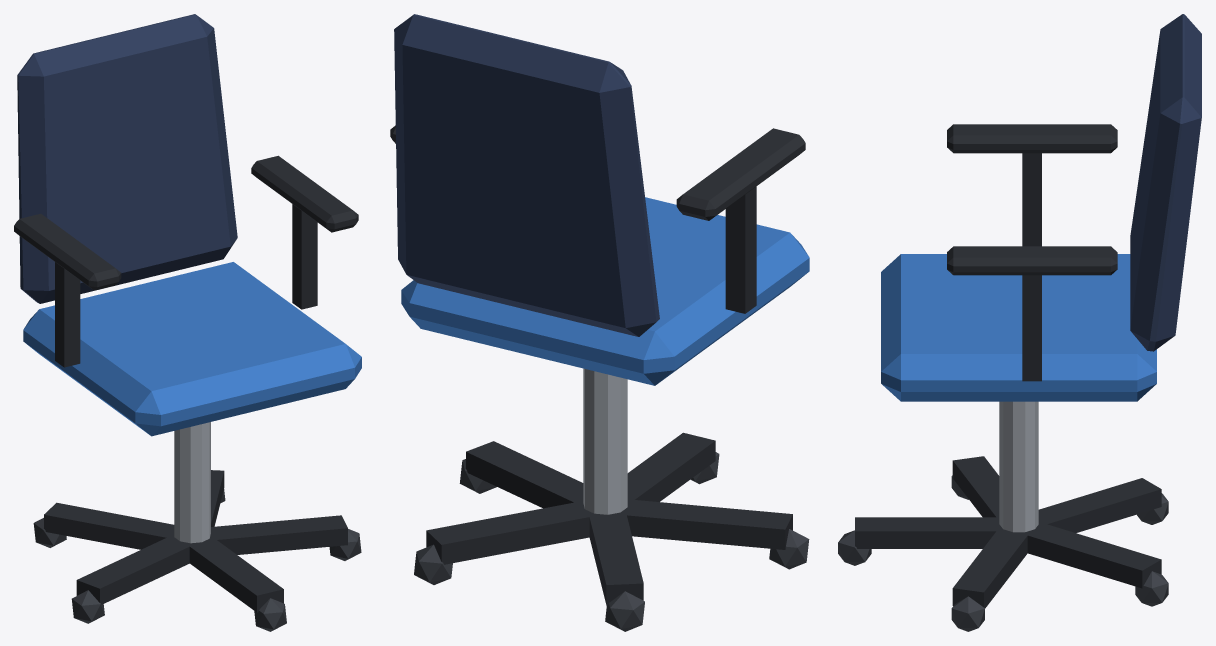
The model's file is chair_2.glb.
3 views of the same model, side by side, from view 1: azimuth 30°, elevation 25°; view 2: azimuth 150°, elevation 25°; view 3: azimuth 270°, elevation 25° (orthographic). The views are drawn at different scales.
Parts seen in each view (by area): view 1: chair_2_mesh; view 2: chair_2_mesh; view 3: chair_2_mesh.
Part boxes in pixels (box(x1,y1,x2,y2)): chair_2_mesh: box(14, 14, 361, 631); chair_2_mesh: box(390, 14, 809, 631); chair_2_mesh: box(838, 14, 1201, 631).
Size of the model in its own units: 0.5292 by 0.8572 by 0.5537.
